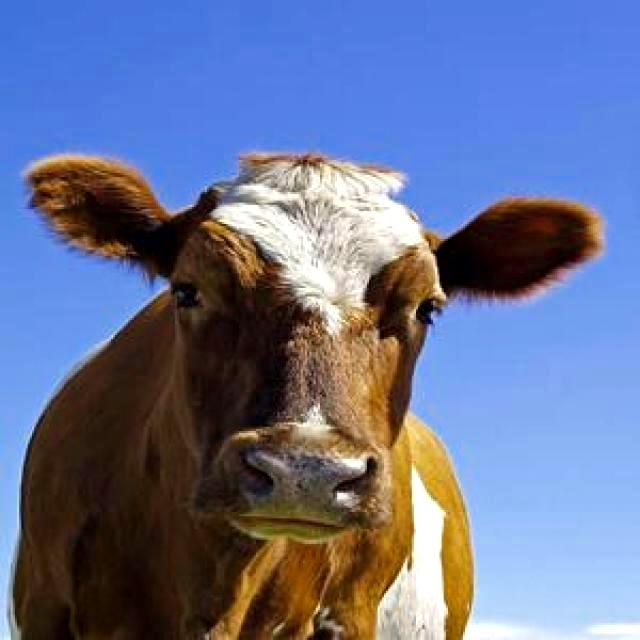COW: (12, 155, 599, 639)
